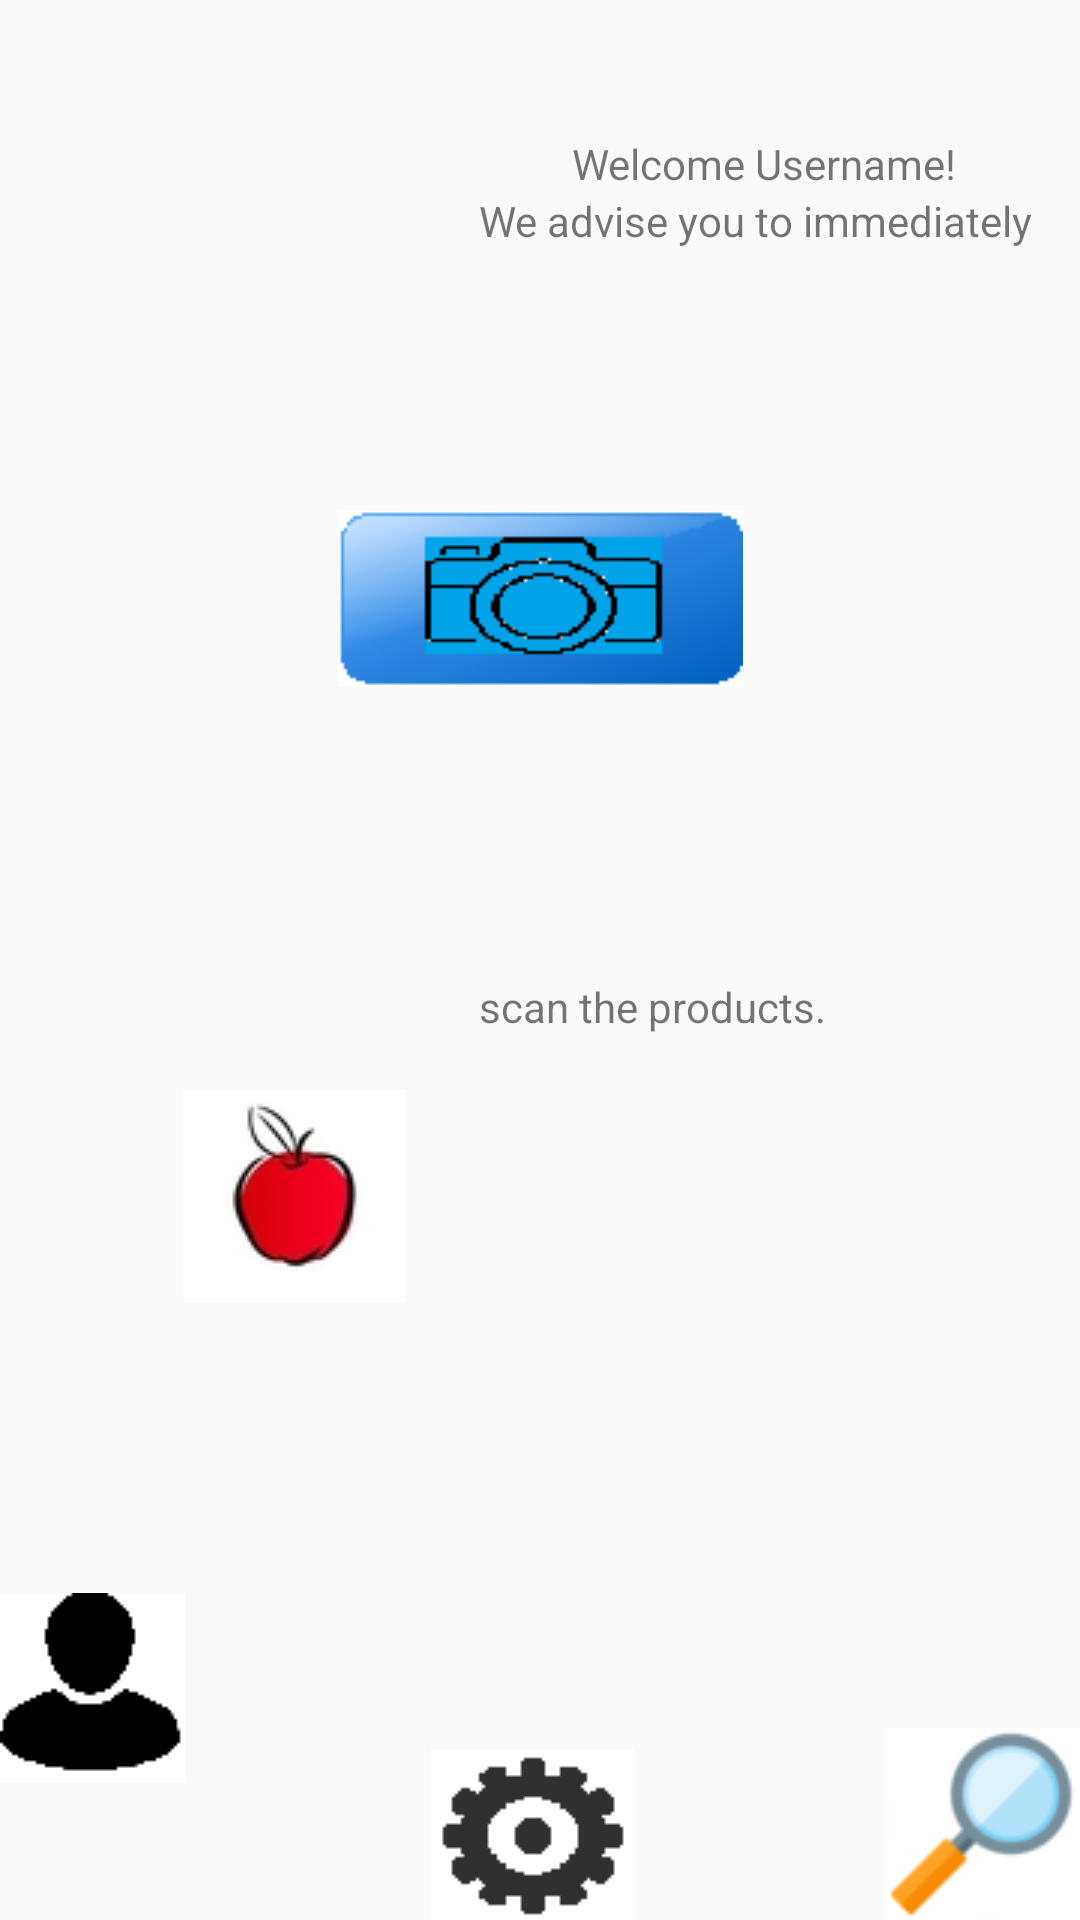

Where icons sit on this 1080w x 1920h app screen, as (x1, y1, x2, y2):
profile: (0, 1593, 181, 1771)
setting: (442, 1757, 624, 1915)
